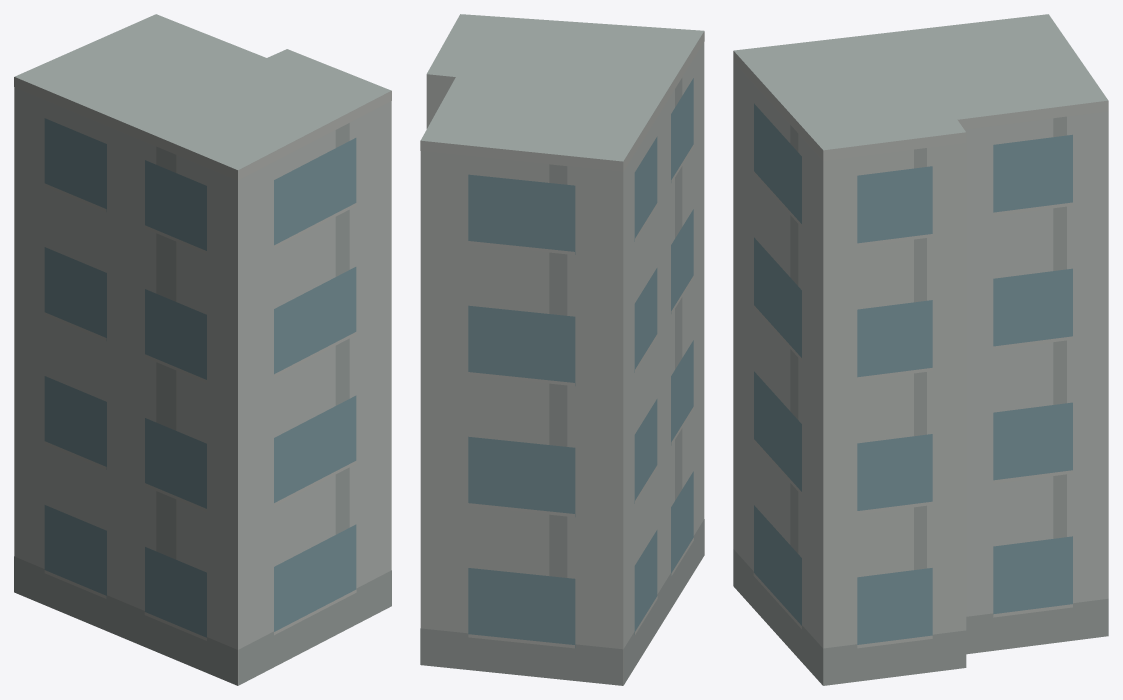
The model's file is survey-upis-32896338.glb.
3 renders of one model, left to right at view 1: azimuth 30°, elevation 25°; view 2: azimuth 150°, elevation 25°; view 3: azimuth 270°, elevation 25°, orthographic. The views are drawn at different scales.
Parts seen in each view (by area): view 1: survey-upis-32896338.tmp; view 2: survey-upis-32896338.tmp; view 3: survey-upis-32896338.tmp.
Part boxes in pixels (left/top/right/bottom): survey-upis-32896338.tmp: left=14, top=14, right=391, bottom=685; survey-upis-32896338.tmp: left=420, top=14, right=704, bottom=685; survey-upis-32896338.tmp: left=733, top=14, right=1108, bottom=685.
Size of the model in its own units: 6.67 by 12.2 by 7.76.
